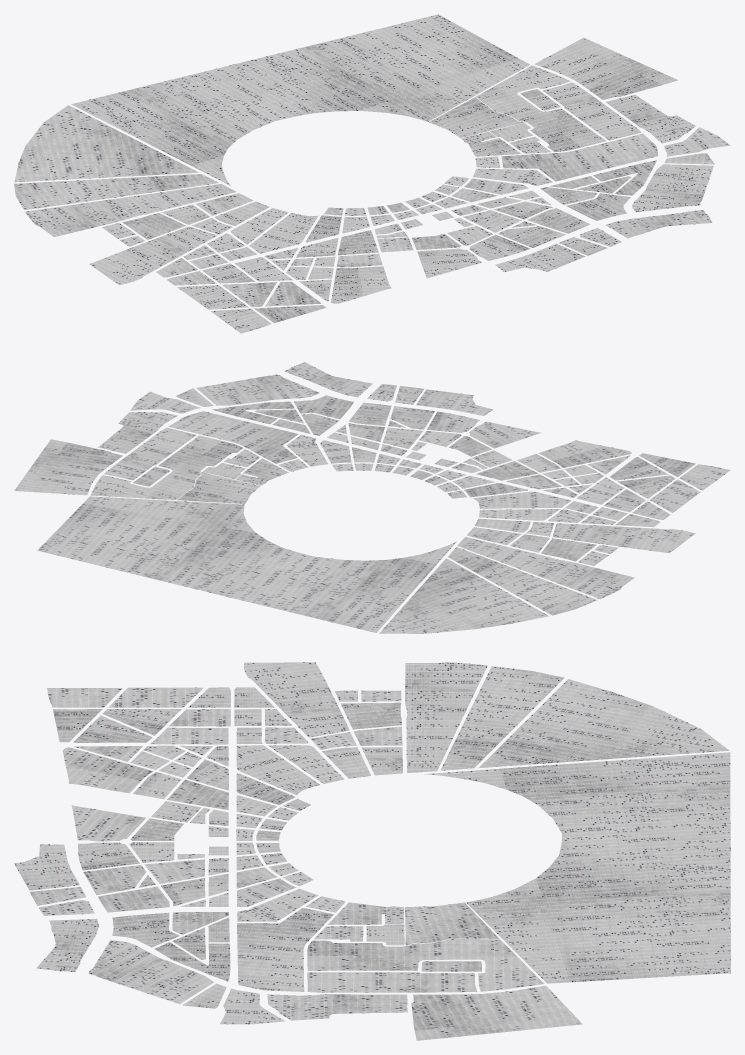
The model's file is parkingLots.glb.
3 renders of one model, top to bottom at view 1: azimuth 30°, elevation 25°; view 2: azimuth 150°, elevation 25°; view 3: azimuth 270°, elevation 25°, orthographic. The views are drawn at different scales.
Visible parts, largest first — view 1: ground_parkingLots_81, ground_parkingLots_82, ground_parkingLots_93, ground_parkingLots_76, ground_parkingLots_49, ground_parkingLots_48, ground_parkingLots_68, ground_parkingLots_53, ground_parkingLots_83, ground_parkingLots_78, ground_parkingLots_92, ground_parkingLots_79 (+35 smaller); view 2: ground_parkingLots_81, ground_parkingLots_82, ground_parkingLots_76, ground_parkingLots_93, ground_parkingLots_49, ground_parkingLots_48, ground_parkingLots_68, ground_parkingLots_53, ground_parkingLots_83, ground_parkingLots_78, ground_parkingLots_92, ground_parkingLots_79 (+35 smaller); view 3: ground_parkingLots_81, ground_parkingLots_82, ground_parkingLots_93, ground_parkingLots_76, ground_parkingLots_49, ground_parkingLots_48, ground_parkingLots_68, ground_parkingLots_53, ground_parkingLots_83, ground_parkingLots_78, ground_parkingLots_92, ground_parkingLots_79 (+45 smaller).
Part boxes in pixels (x1=…): ground_parkingLots_81: x1=71, y1=14, x2=529, y2=185; ground_parkingLots_82: x1=14, y1=105, x2=198, y2=182; ground_parkingLots_93: x1=534, y1=37, x2=677, y2=99; ground_parkingLots_76: x1=476, y1=65, x2=606, y2=151; ground_parkingLots_49: x1=25, y1=184, x2=236, y2=236; ground_parkingLots_48: x1=14, y1=174, x2=218, y2=210; ground_parkingLots_68: x1=501, y1=133, x2=657, y2=181; ground_parkingLots_53: x1=90, y1=226, x2=216, y2=285; ground_parkingLots_83: x1=632, y1=164, x2=713, y2=212; ground_parkingLots_78: x1=543, y1=82, x2=641, y2=140; ground_parkingLots_92: x1=606, y1=94, x2=695, y2=143; ground_parkingLots_79: x1=429, y1=97, x2=524, y2=137; ground_parkingLots_81: x1=37, y1=496, x2=456, y2=632; ground_parkingLots_82: x1=379, y1=558, x2=548, y2=633; ground_parkingLots_76: x1=90, y1=435, x2=243, y2=499; ground_parkingLots_93: x1=14, y1=439, x2=122, y2=495; ground_parkingLots_49: x1=457, y1=537, x2=634, y2=598; ground_parkingLots_48: x1=448, y1=547, x2=597, y2=615; ground_parkingLots_68: x1=168, y1=411, x2=298, y2=463; ground_parkingLots_53: x1=552, y1=523, x2=695, y2=552; ground_parkingLots_83: x1=196, y1=374, x2=319, y2=405; ground_parkingLots_78: x1=104, y1=427, x2=196, y2=480; ground_parkingLots_92: x1=98, y1=412, x2=177, y2=453; ground_parkingLots_79: x1=177, y1=472, x2=260, y2=503; ground_parkingLots_81: x1=424, y1=752, x2=730, y2=983; ground_parkingLots_82: x1=479, y1=679, x2=729, y2=767; ground_parkingLots_93: x1=411, y1=985, x2=582, y2=1040; ground_parkingLots_76: x1=307, y1=939, x2=543, y2=991; ground_parkingLots_49: x1=405, y1=662, x2=487, y2=773; ground_parkingLots_48: x1=440, y1=666, x2=564, y2=770; ground_parkingLots_68: x1=237, y1=908, x2=333, y2=991; ground_parkingLots_53: x1=244, y1=662, x2=349, y2=737; ground_parkingLots_83: x1=88, y1=940, x2=213, y2=1004; ground_parkingLots_78: x1=307, y1=972, x2=477, y2=992; ground_parkingLots_92: x1=267, y1=994, x2=407, y2=1020; ground_parkingLots_79: x1=405, y1=902, x2=499, y2=945.
Size of the model in its own units: 11.64 by 0 by 9.31.
Materials: 2 (2 with a texture image).
